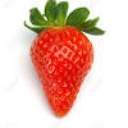strawberry: (26, 3, 104, 116)
